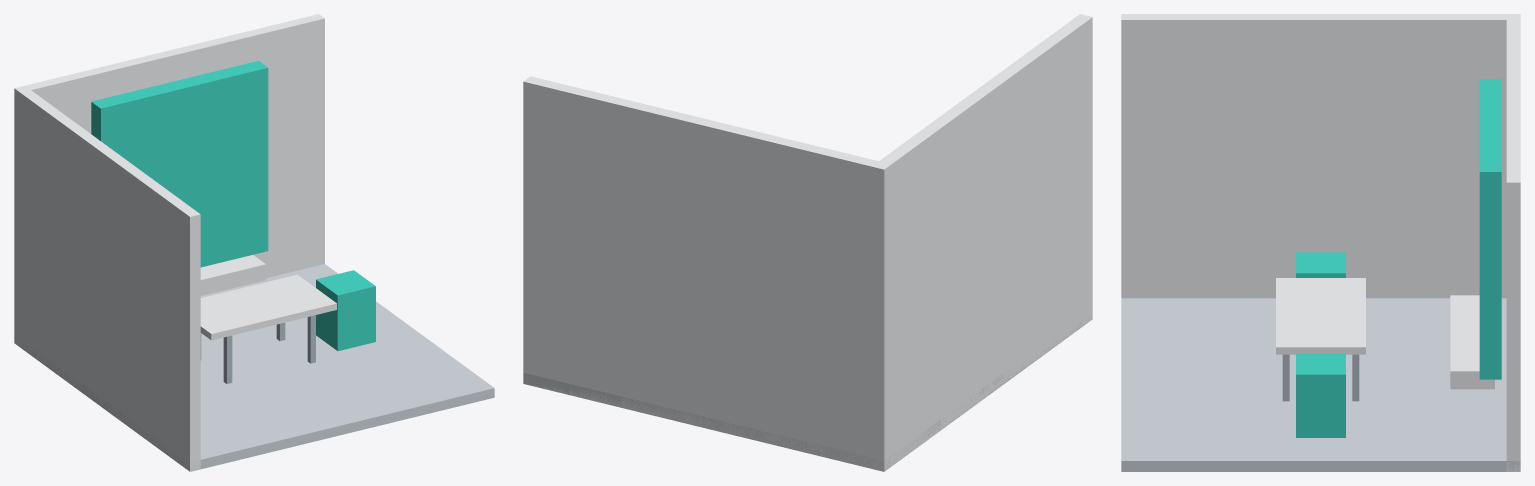
3 renders of one model, left to right at view 1: azimuth 30°, elevation 25°; view 2: azimuth 150°, elevation 25°; view 3: azimuth 270°, elevation 25°, orthographic. The views are drawn at different scales.
Visible parts, largest first — view 1: Exhibition Booth Concept; view 2: Exhibition Booth Concept; view 3: Exhibition Booth Concept.
Boxes of the visible parts, bbox=[...] form: Exhibition Booth Concept: bbox=[14, 14, 494, 471]; Exhibition Booth Concept: bbox=[523, 14, 1092, 471]; Exhibition Booth Concept: bbox=[1121, 14, 1520, 471].
Size of the model in its own units: 4 by 3.2 by 4.
